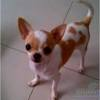Bulldog: (9, 2, 99, 100)
